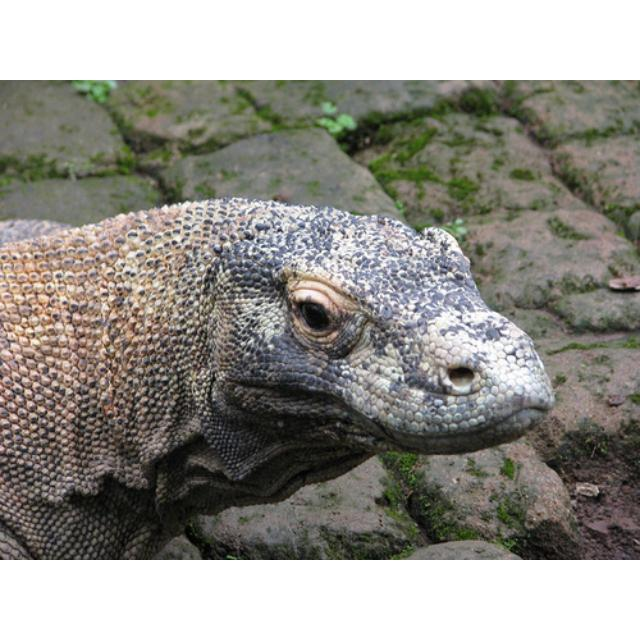KomodoDragon: (0, 193, 552, 557)
